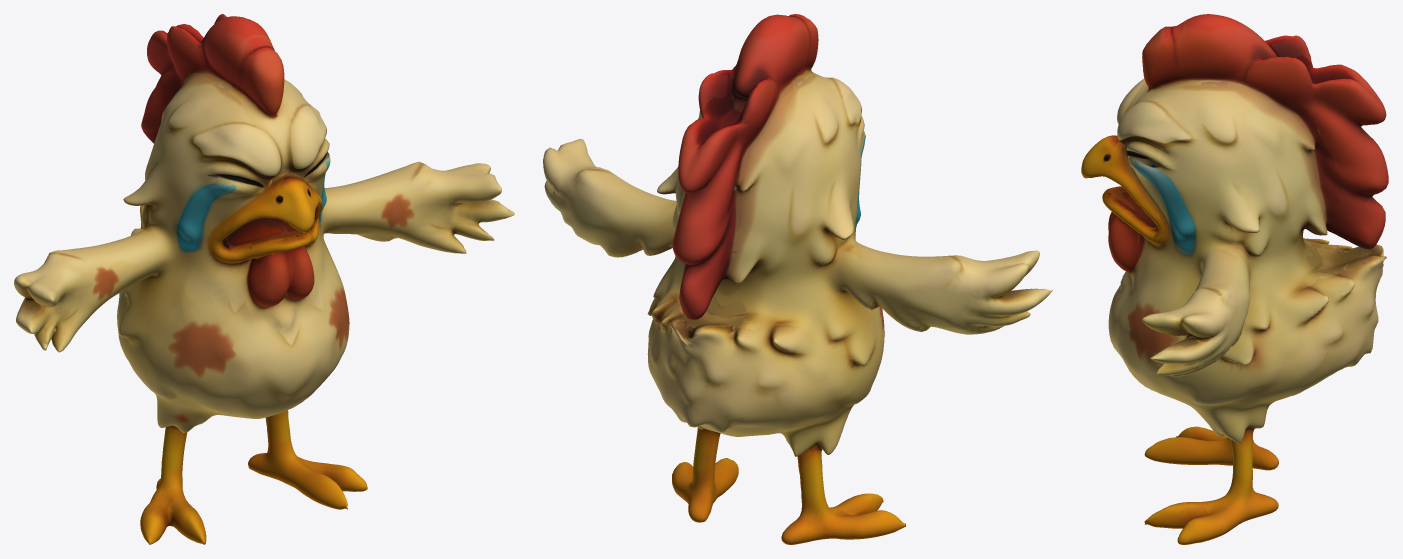
The model's file is Crying_Chicken_1118162024_texture.fbx.
3 views of the same model, side by side, from view 1: azimuth 30°, elevation 25°; view 2: azimuth 150°, elevation 25°; view 3: azimuth 270°, elevation 25° (orthographic). The views are drawn at different scales.
Parts seen in each view (by area): view 1: input; view 2: input; view 3: input.
Boxes of the visible parts, x1,y1,x2,y2 form: input: [14, 14, 514, 544]; input: [543, 14, 1052, 544]; input: [1081, 14, 1388, 544].
Size of the model in its own units: 191 by 183 by 107.
1 material, 1 textured.
